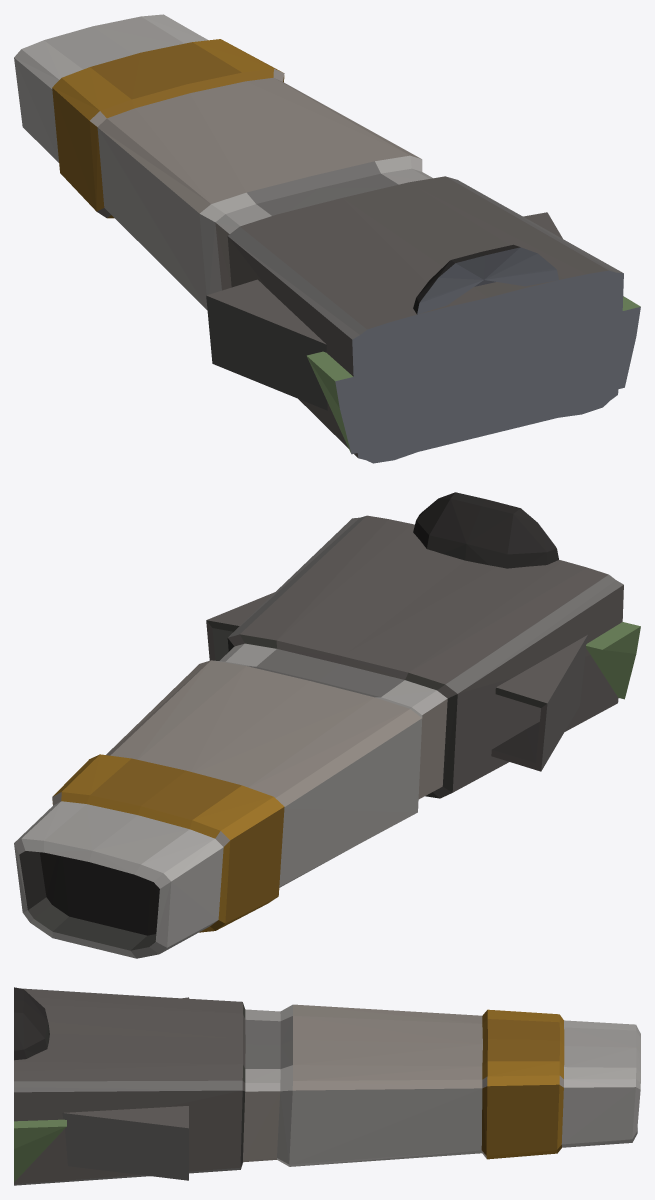
Rendered from nose.glb.
3 renders of one model, top to bottom at view 1: azimuth 30°, elevation 25°; view 2: azimuth 150°, elevation 25°; view 3: azimuth 270°, elevation 25°, orthographic. The views are drawn at different scales.
Size of the model in its own units: 0.9127 by 0.4666 by 1.85.
